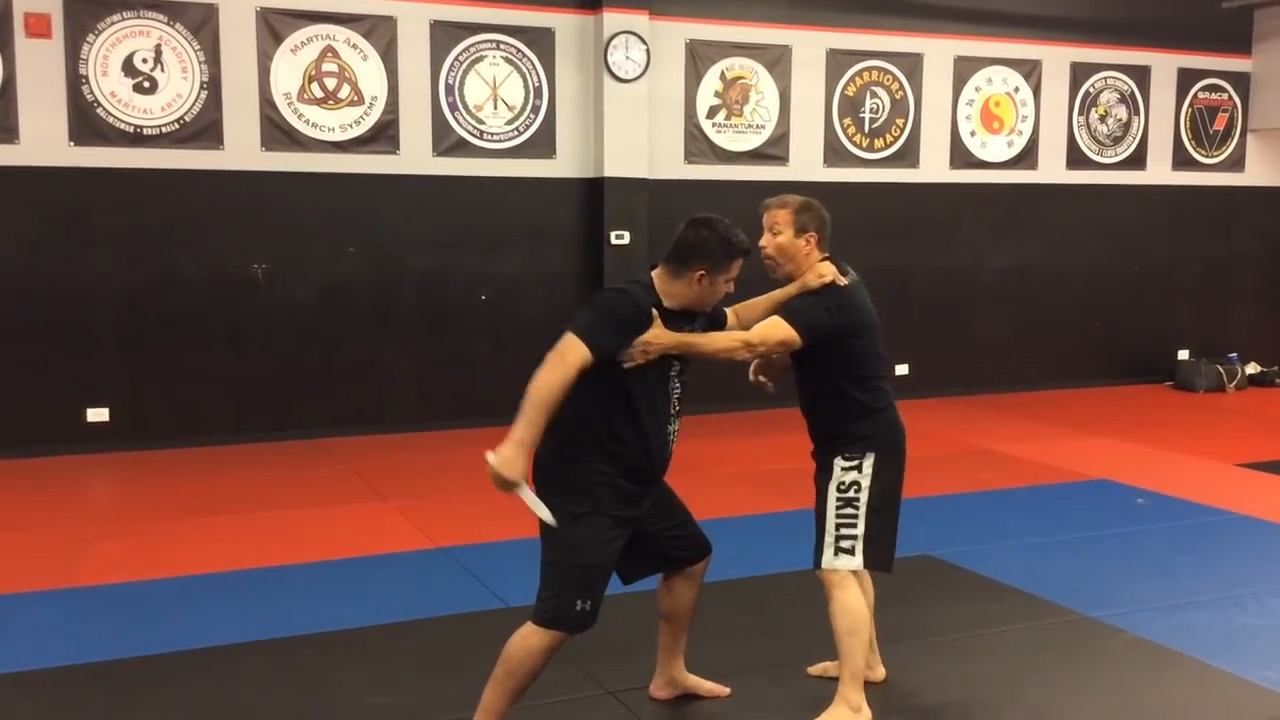knife: (477, 445, 562, 533)
